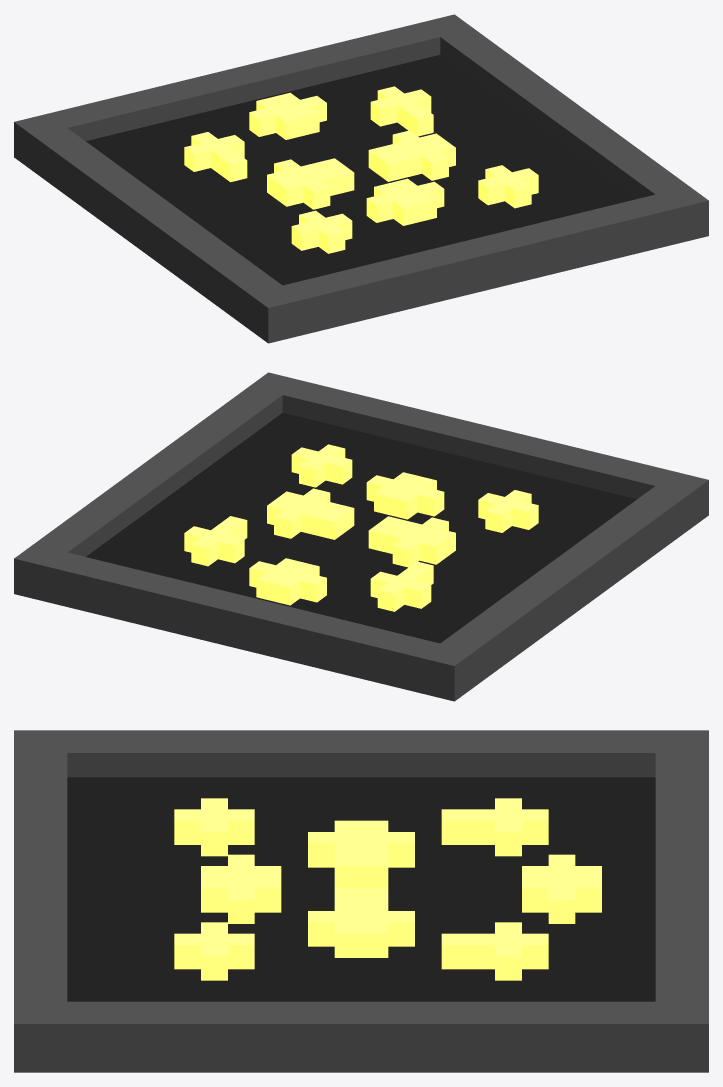
Rendered from trap_STARS_YELLOW.glb.
The picture shows the model from 3 angles, top to bottom: view 1: azimuth 30°, elevation 25°; view 2: azimuth 150°, elevation 25°; view 3: azimuth 270°, elevation 25°; orthographic projection. The views are drawn at different scales.
Parts seen in each view (by area): view 1: item_TRAP_STARS_YELLOW; view 2: item_TRAP_STARS_YELLOW; view 3: item_TRAP_STARS_YELLOW.
Part boxes in pixels (x1,y1,x2,y2): item_TRAP_STARS_YELLOW: (14,14,708,343); item_TRAP_STARS_YELLOW: (14,372,708,701); item_TRAP_STARS_YELLOW: (14,730,708,1072).
Size of the model in its own units: 0.5909 by 0.0455 by 0.5909.
1 material, 1 textured.
